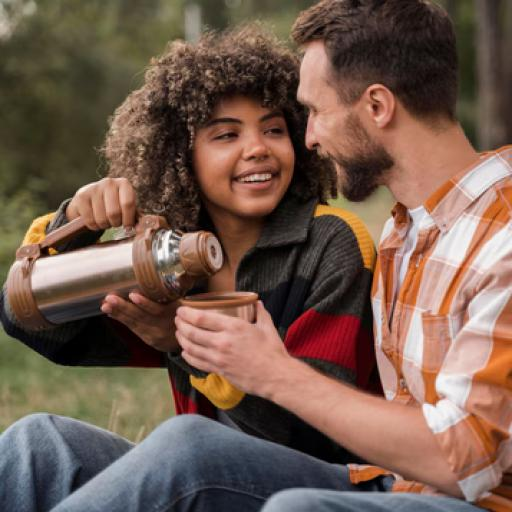termo: (9, 215, 221, 328)
